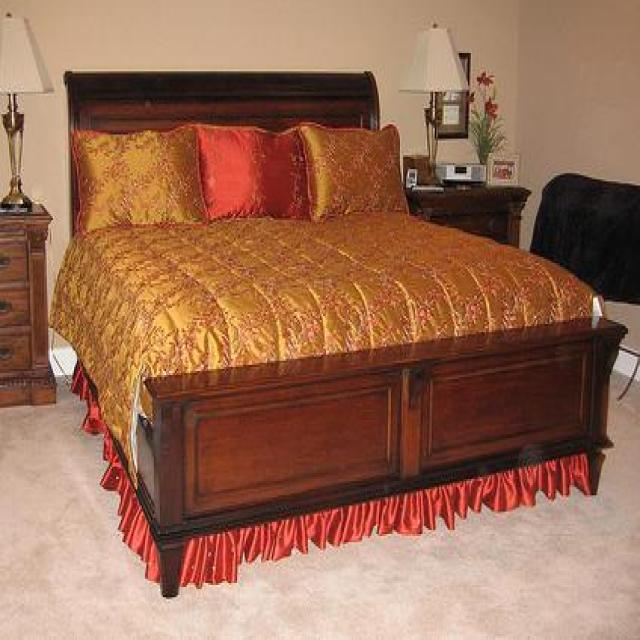bed: (49, 67, 626, 597)
